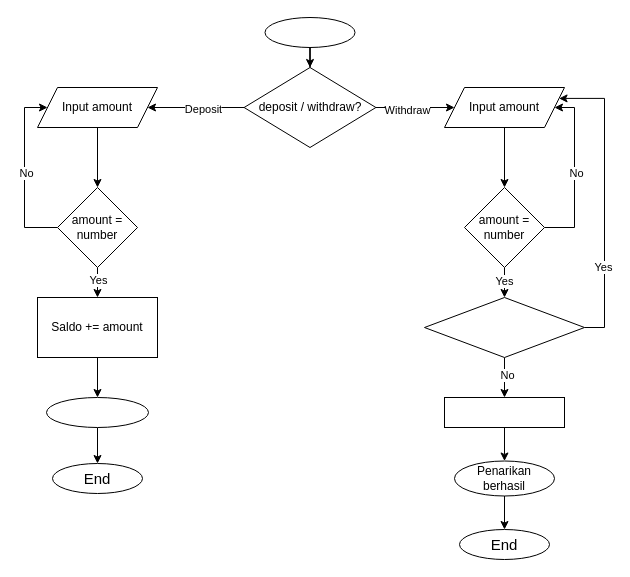
The diagram is 630 pixels wide and 577 high, and some of its shapes have lost their labels. Here are the shapes that lost their labels. From the top down, the centre of each, then its label:
At [309,32]: "Start".
At [504,327]: "is amount > saldo?".
At [97,412]: "Setoran berhasil".
At [504,412]: "Saldo -= amount".
